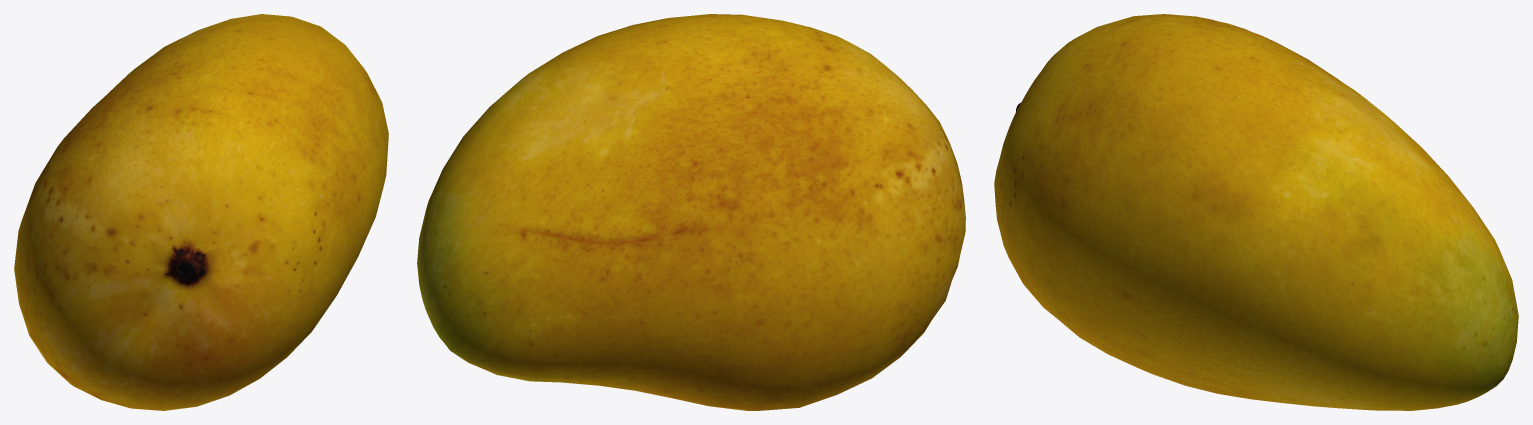
Rendered from YellowFruitMango.fbx.
The picture shows the model from 3 angles, left to right: view 1: azimuth 30°, elevation 25°; view 2: azimuth 150°, elevation 25°; view 3: azimuth 270°, elevation 25°; orthographic projection. The views are drawn at different scales.
Visible parts, largest first — view 1: Mango; view 2: Mango; view 3: Mango.
Boxes of the visible parts, left/top/right/bottom form: Mango: left=14, top=14, right=388, bottom=410; Mango: left=417, top=14, right=965, bottom=410; Mango: left=994, top=14, right=1518, bottom=410.
Size of the model in its own units: 0.1027 by 0.1046 by 0.0813.
Materials: 1 (1 with a texture image).
